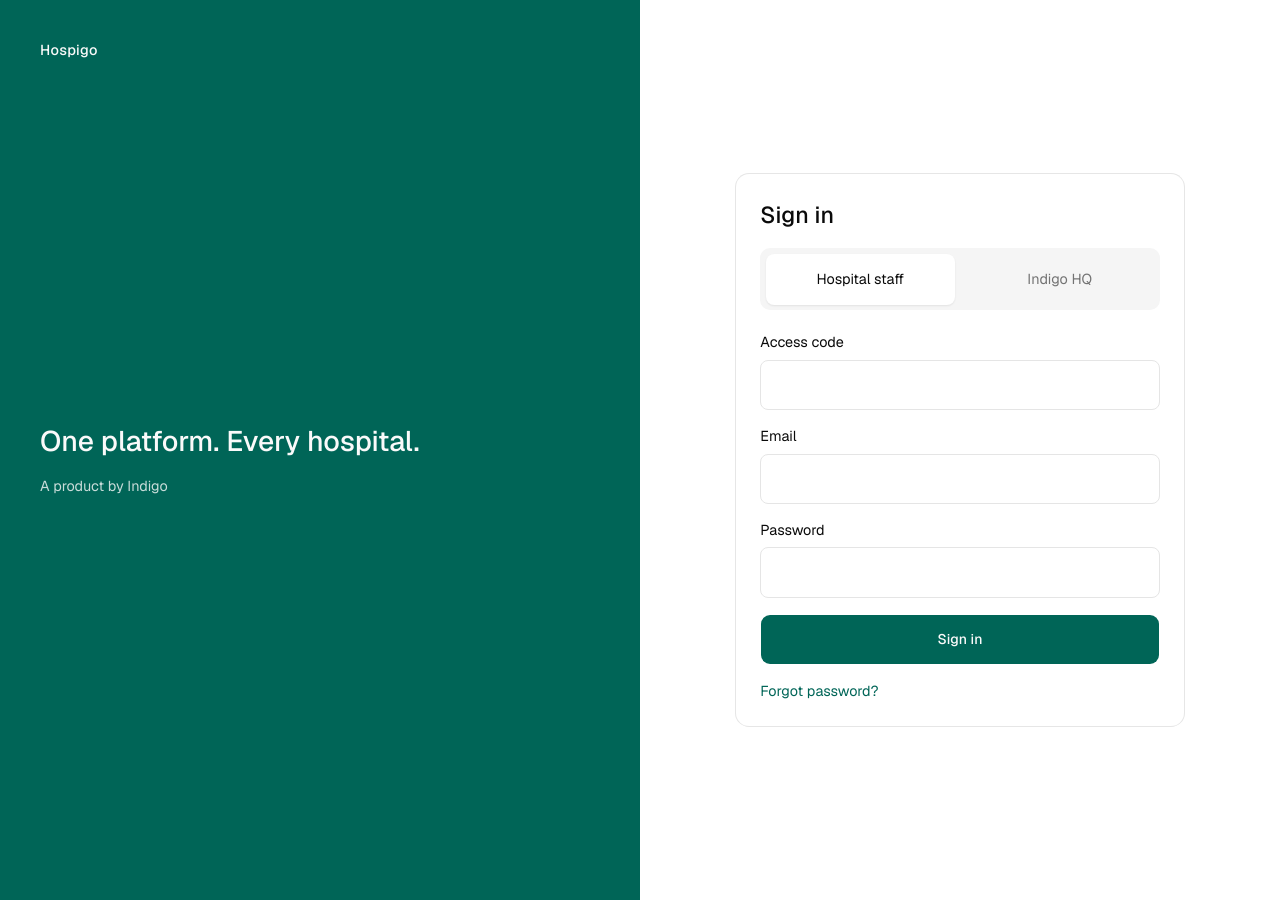
Test: login form › switches to Indigo HQ and hides the access code field
This screenshot has width=1280, height=900.
Click the tab "Indigo HQ": (1060, 279) [965,254,1154,305]
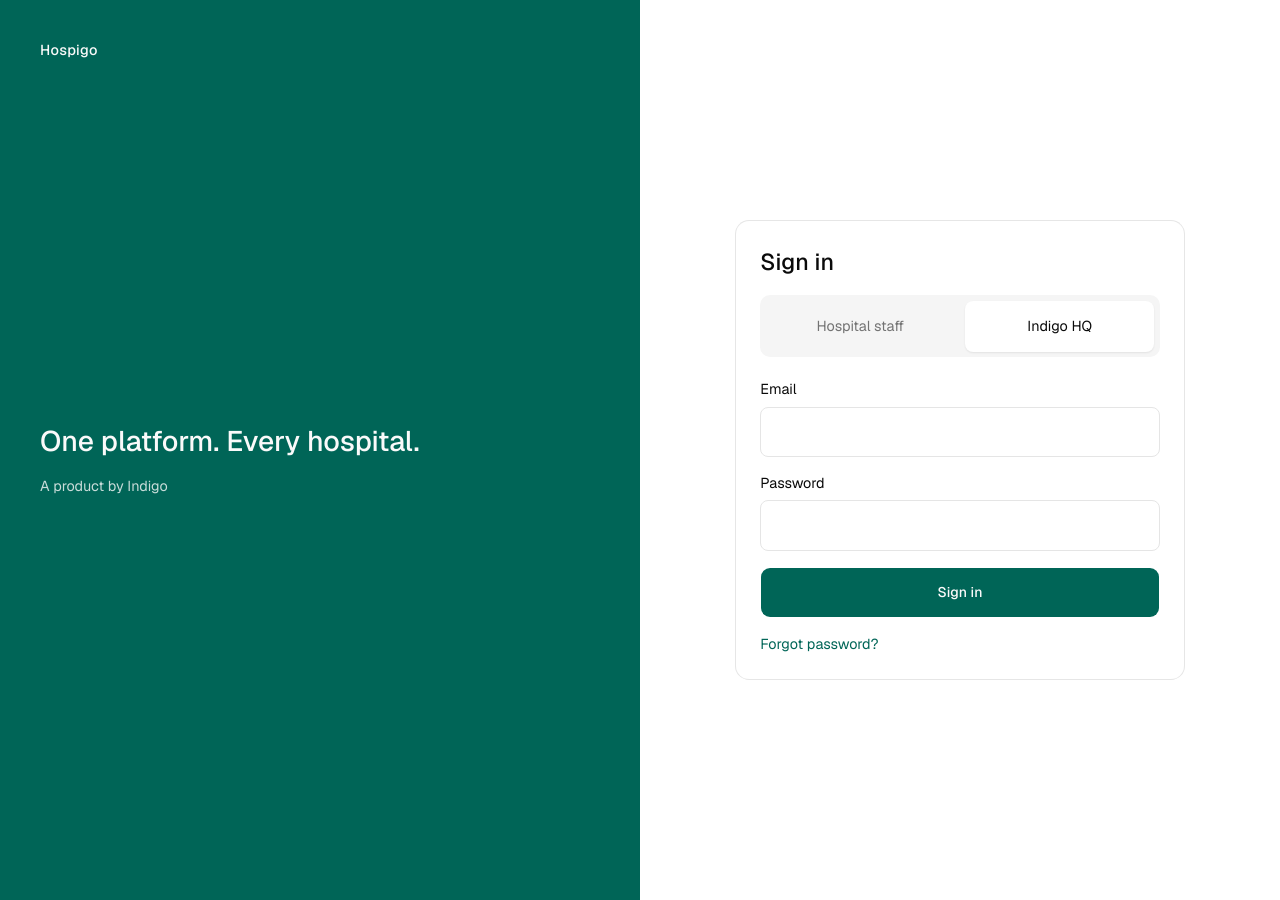
Expected: the field labelled "Email" is shown, [760,406,1160,457]
Now the label labelled "Access code" is gone
